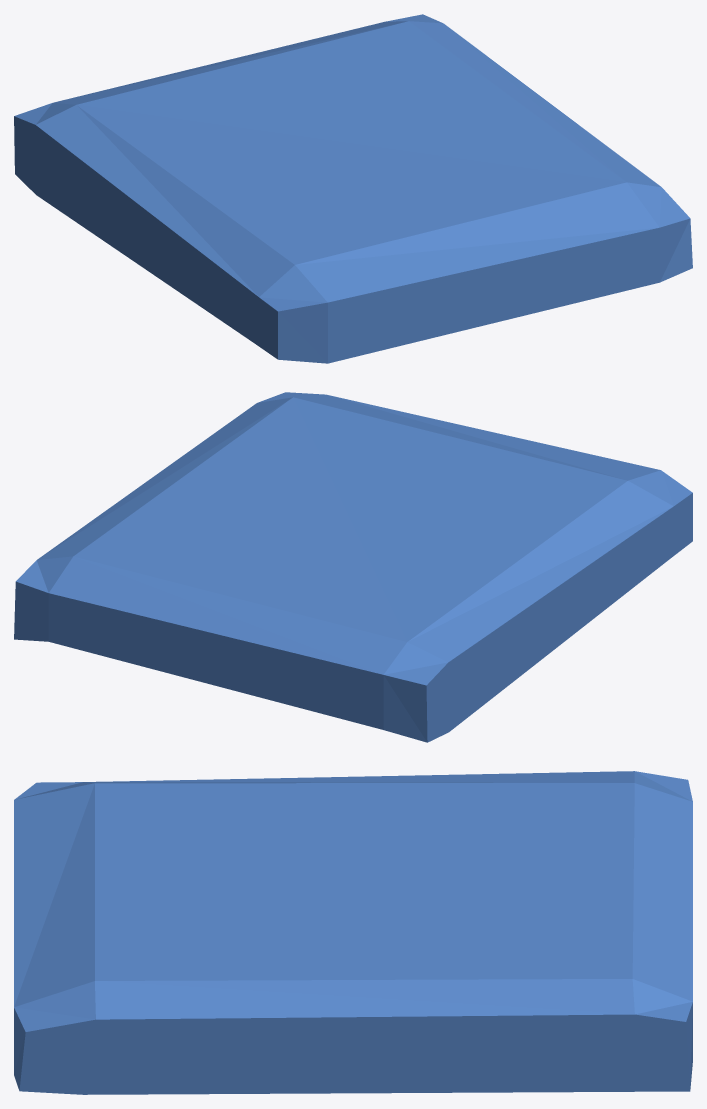
File: Trampoline.fbx
The picture shows the model from 3 angles, top to bottom: view 1: azimuth 30°, elevation 25°; view 2: azimuth 150°, elevation 25°; view 3: azimuth 270°, elevation 25°; orthographic projection. The views are drawn at different scales.
Parts seen in each view (by area): view 1: Plane.002; view 2: Plane.002; view 3: Plane.002.
Part boxes in pixels (x1=…): Plane.002: x1=14, y1=14, x2=692, y2=363; Plane.002: x1=14, y1=392, x2=692, y2=742; Plane.002: x1=14, y1=771, x2=692, y2=1094.
Size of the model in its own units: 1.56 by 0.3093 by 1.83.
